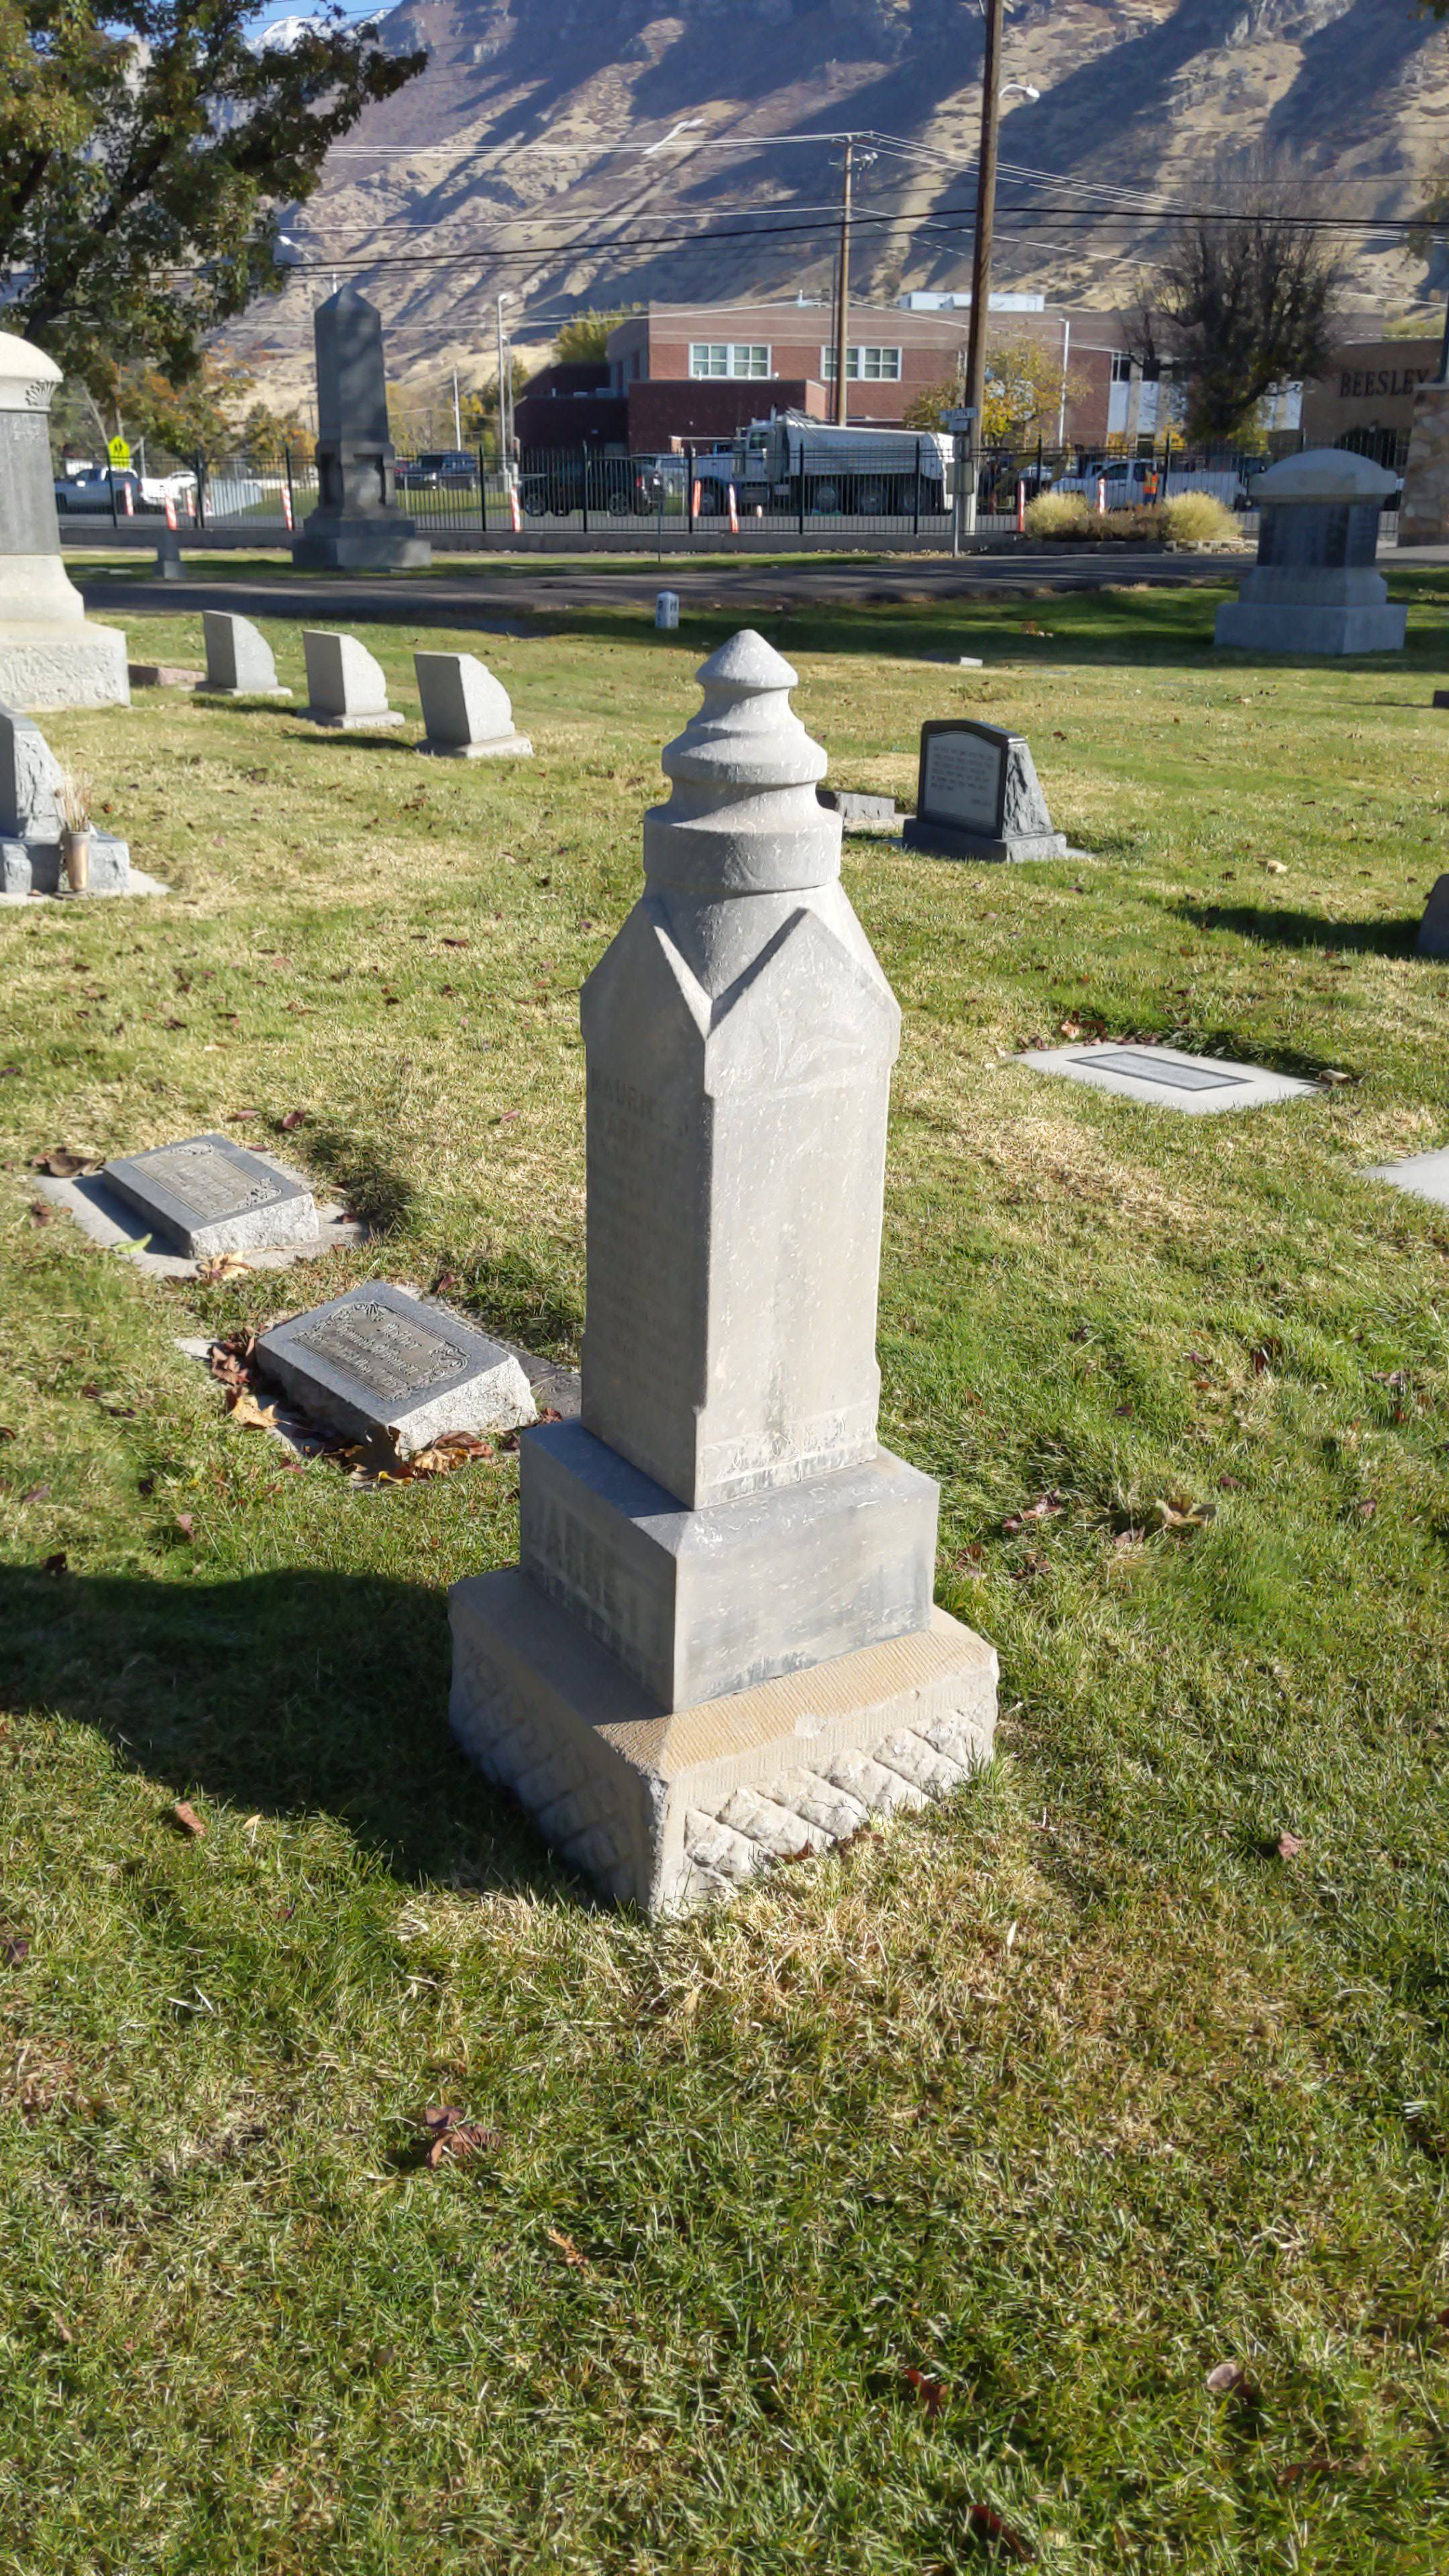obelisk: (529, 630, 932, 1704)
